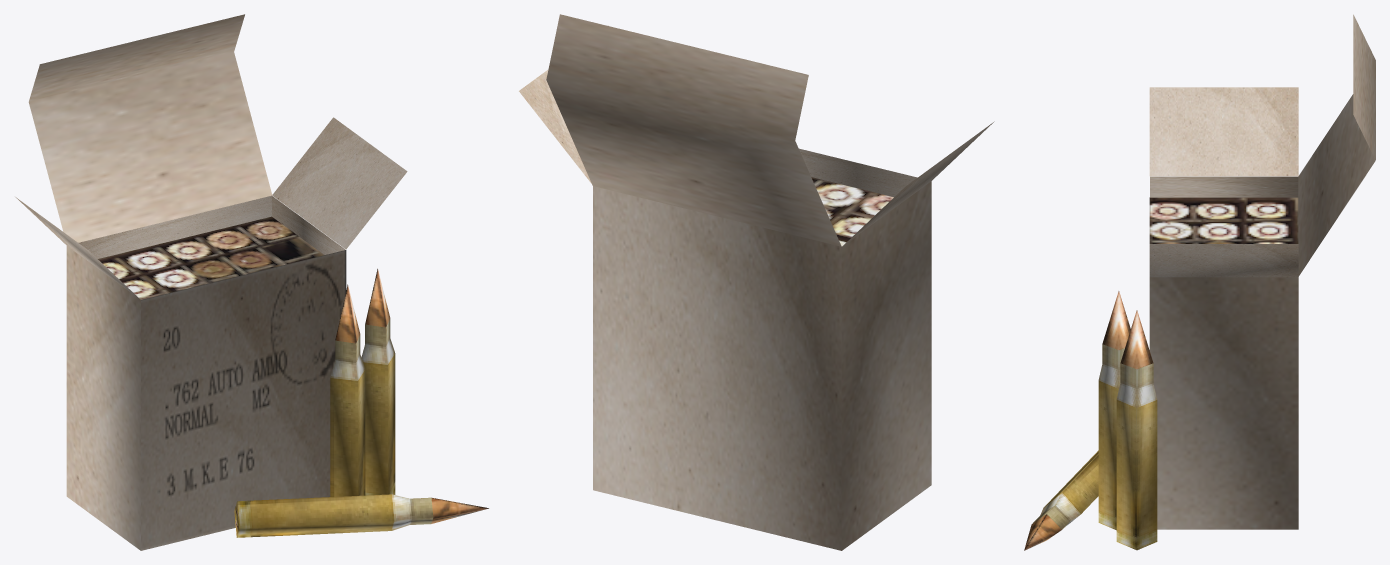
3 renders of one model, left to right at view 1: azimuth 30°, elevation 25°; view 2: azimuth 150°, elevation 25°; view 3: azimuth 270°, elevation 25°, orthographic. The views are drawn at different scales.
Parts seen in each view (by area): view 1: Auto_Ammo_Box; view 2: Auto_Ammo_Box; view 3: Auto_Ammo_Box.
Boxes of the visible parts, left/top/right/bottom form: Auto_Ammo_Box: left=15, top=14, right=488, bottom=550; Auto_Ammo_Box: left=519, top=14, right=994, bottom=550; Auto_Ammo_Box: left=1024, top=14, right=1375, bottom=550.
Bounding box in the file's own units: 0.4066 × 0.4728 × 0.3634.
2 materials, 2 textured.
